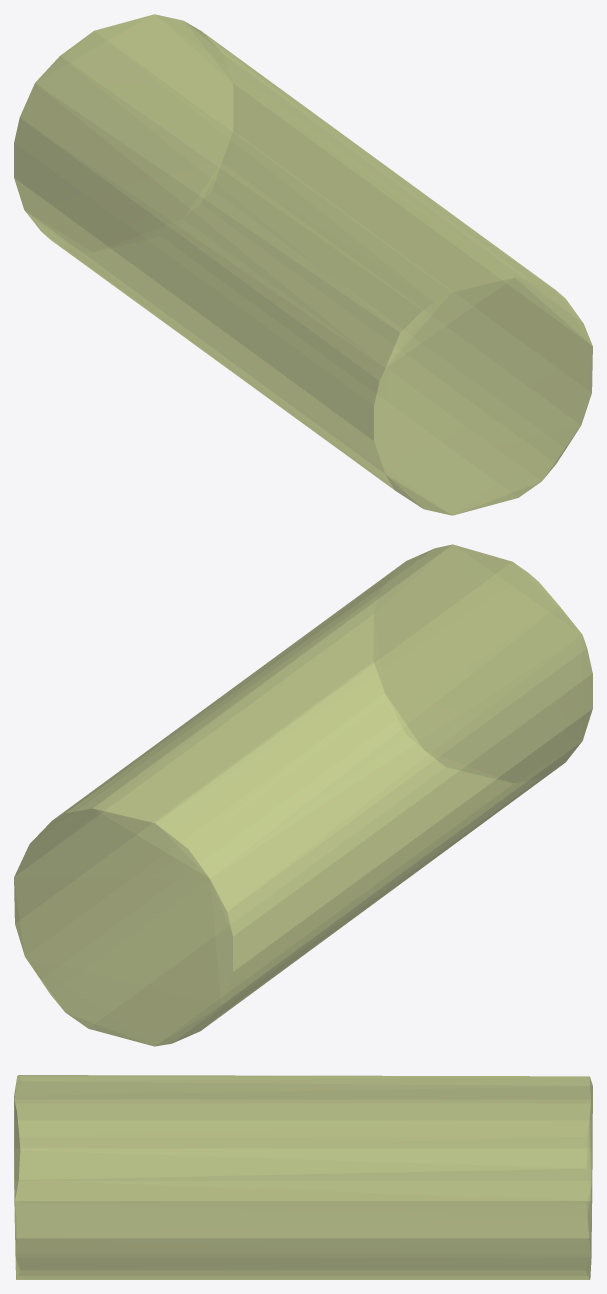
3 renders of one model, top to bottom at view 1: azimuth 30°, elevation 25°; view 2: azimuth 150°, elevation 25°; view 3: azimuth 270°, elevation 25°, orthographic. The views are drawn at different scales.
Visible parts, largest first — view 1: Shape_IndexedFaceSet.002_Shape_IndexedFaceSet.13284; view 2: Shape_IndexedFaceSet.002_Shape_IndexedFaceSet.13284; view 3: Shape_IndexedFaceSet.002_Shape_IndexedFaceSet.13284.
Boxes of the visible parts, x1,y1,x2,y2 form: Shape_IndexedFaceSet.002_Shape_IndexedFaceSet.13284: (14, 14, 592, 515); Shape_IndexedFaceSet.002_Shape_IndexedFaceSet.13284: (14, 544, 592, 1046); Shape_IndexedFaceSet.002_Shape_IndexedFaceSet.13284: (14, 1075, 592, 1279).
Size of the model in its own units: 0.2289 by 0.2232 by 0.6547.
